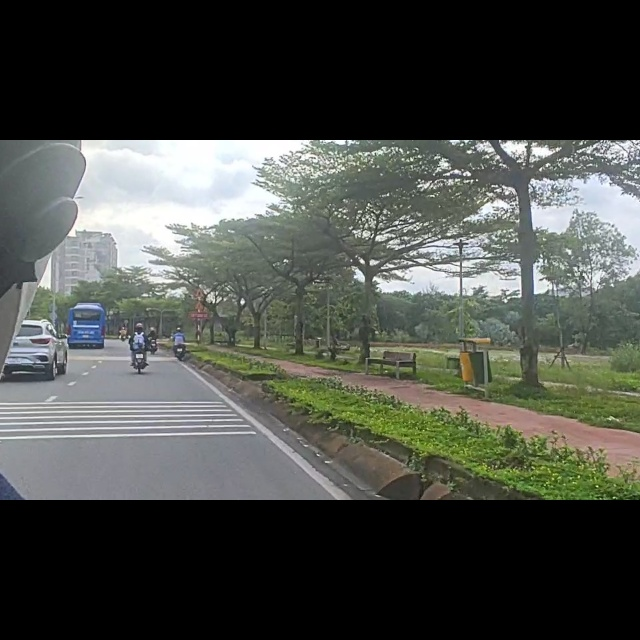bien_nguy_hiem: (193, 286, 206, 302)
